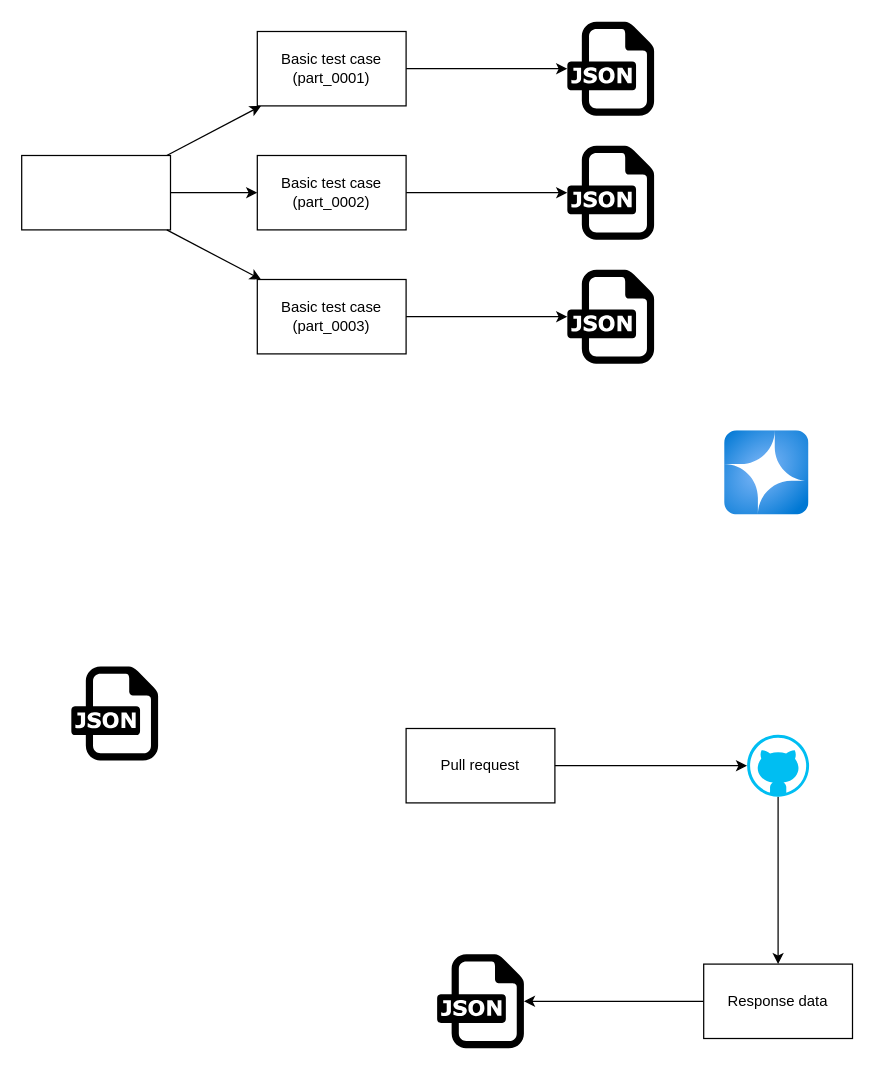
Image size: 874x1070. Some labels were removed from this diagram. The shapes that lost their labels are listed below. From the top down, each one's centre as x and y in pixels, then its label:
point (95, 192): Basic test case
point (777, 765): Github API
